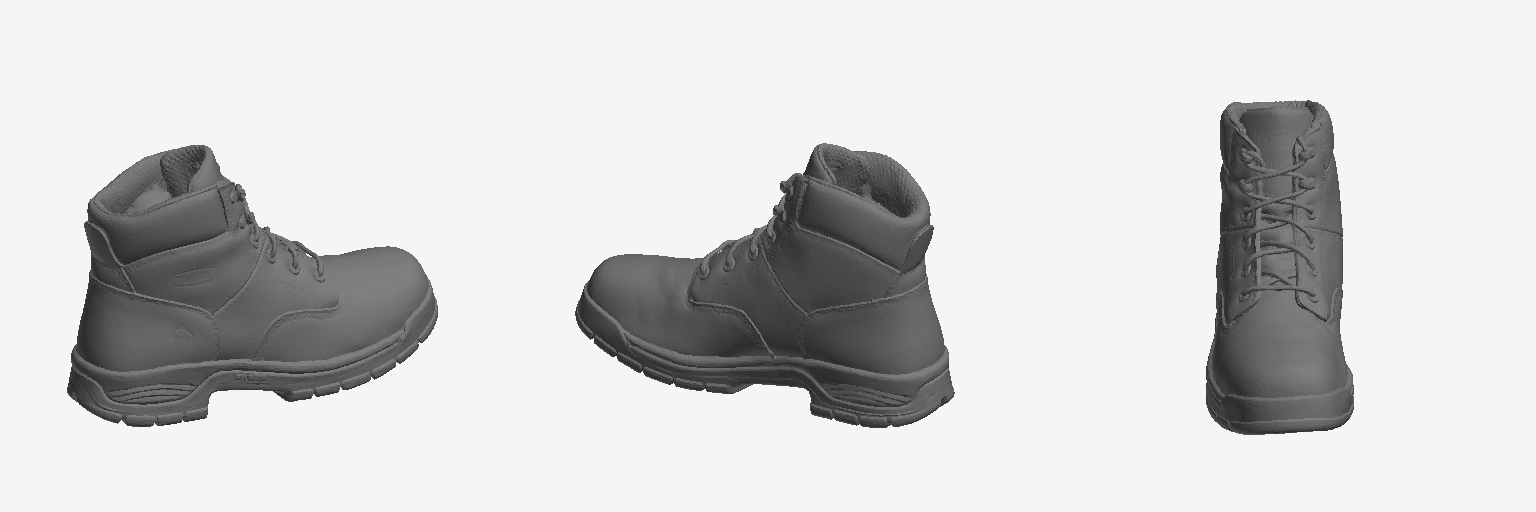
Rendered from sh_wlvHrWorkBoot.obj.
The picture shows the model from 3 angles: view 1: azimuth 30°, elevation 25°; view 2: azimuth 150°, elevation 25°; view 3: azimuth 270°, elevation 25°; orthographic projection.
Parts seen in each view (by area): view 1: sh_wlvHrWorkBoot; view 2: sh_wlvHrWorkBoot; view 3: sh_wlvHrWorkBoot.
Part boxes in pixels (x1,y1,x2,y2): sh_wlvHrWorkBoot: (67,145,437,426); sh_wlvHrWorkBoot: (575,143,954,427); sh_wlvHrWorkBoot: (1206,100,1353,434).
Size of the model in its own units: 0.307 by 0.2023 by 0.1103.